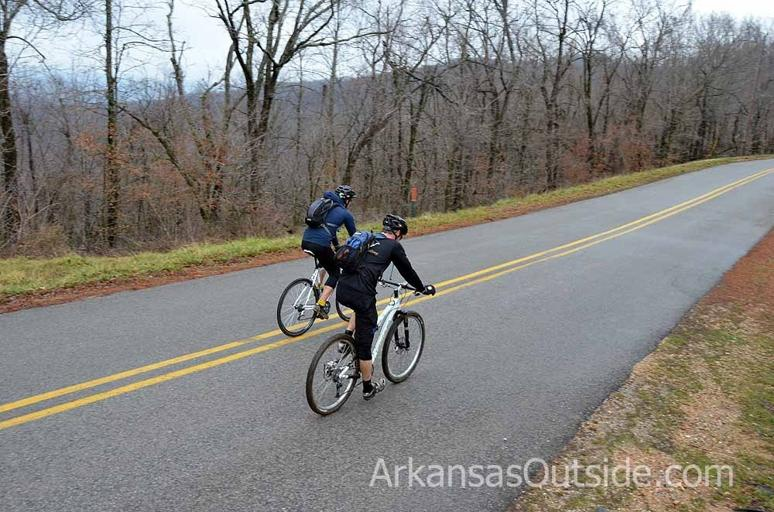non-vehicle: (305, 275, 425, 414), (276, 244, 353, 336)
